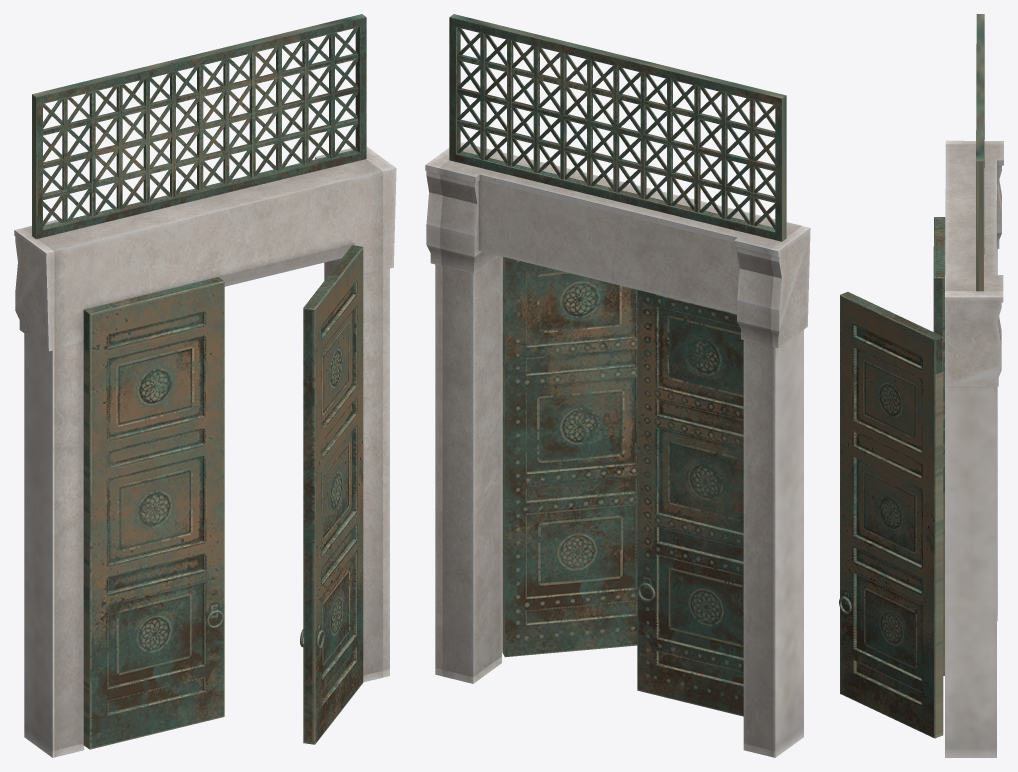
Rendered from TreasuryDoors.fbx.
3 views of the same model, side by side, from view 1: azimuth 30°, elevation 25°; view 2: azimuth 150°, elevation 25°; view 3: azimuth 270°, elevation 25° (orthographic). The views are drawn at different scales.
Visible parts, largest first — view 1: TreasuryDoorArch, TreasuryRightDoor, TreasuryRoomGrate, TreasuryLeftDoor; view 2: TreasuryDoorArch, TreasuryLeftDoor, TreasuryRightDoor, TreasuryRoomGrate; view 3: TreasuryLeftDoor, TreasuryDoorArch, TreasuryRoomGrate, TreasuryRightDoor.
Part boxes in pixels (left/top/right/bottom): TreasuryDoorArch: left=14, top=146, right=396, bottom=757; TreasuryRightDoor: left=83, top=277, right=224, bottom=749; TreasuryRoomGrate: left=32, top=14, right=366, bottom=239; TreasuryLeftDoor: left=300, top=245, right=363, bottom=744; TreasuryDoorArch: left=425, top=142, right=810, bottom=757; TreasuryLeftDoor: left=502, top=256, right=637, bottom=657; TreasuryRightDoor: left=637, top=290, right=743, bottom=716; TreasuryRoomGrate: left=449, top=14, right=786, bottom=241; TreasuryLeftDoor: left=839, top=292, right=943, bottom=738; TreasuryDoorArch: left=944, top=140, right=1003, bottom=757; TreasuryRoomGrate: left=976, top=14, right=984, bottom=291; TreasuryRightDoor: left=933, top=217, right=945, bottom=675.
Bounding box in the file's own units: 4.79 × 8.48 × 2.14.
Materials: 3 (3 with a texture image).
